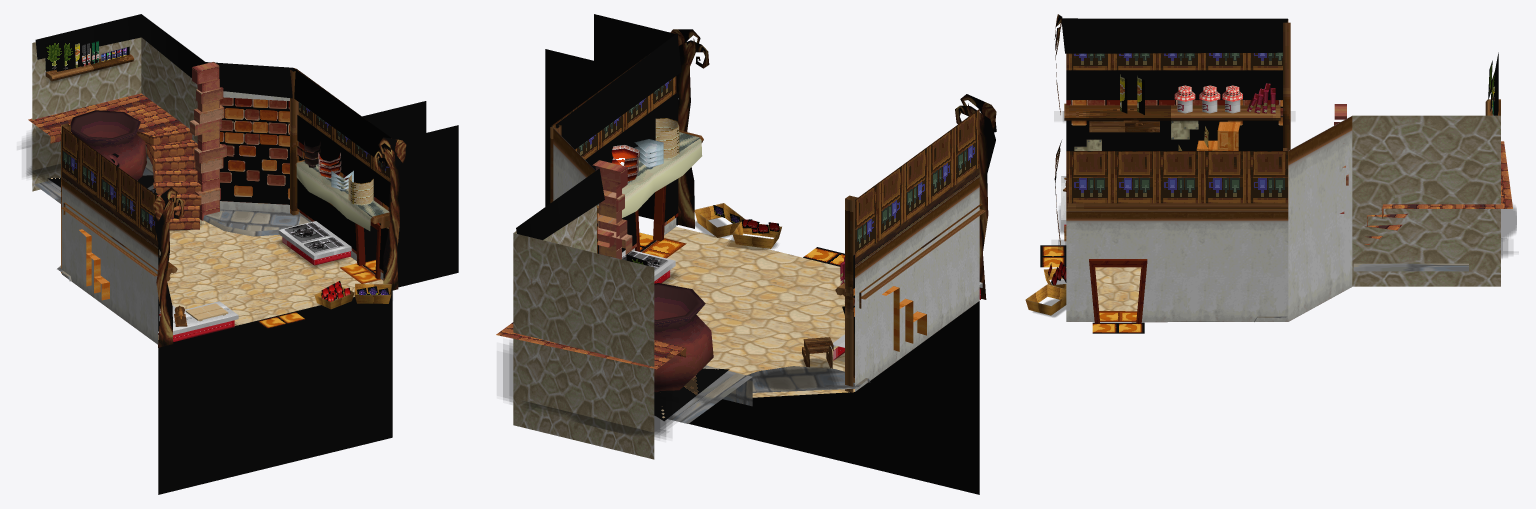
3 renders of one model, left to right at view 1: azimuth 30°, elevation 25°; view 2: azimuth 150°, elevation 25°; view 3: azimuth 270°, elevation 25°, orthographic. The views are drawn at different scales.
Parts seen in each view (by area): view 1: kb_ryouri0; view 2: kb_ryouri0; view 3: kb_ryouri0.
Boxes of the visible parts, box(x1,y1,x2,y2) form: kb_ryouri0: box(21, 14, 458, 494); kb_ryouri0: box(496, 14, 996, 494); kb_ryouri0: box(1025, 14, 1516, 333).
Size of the model in its own units: 3.98 by 3.74 by 4.77.
Materials: 52 (52 with a texture image).
